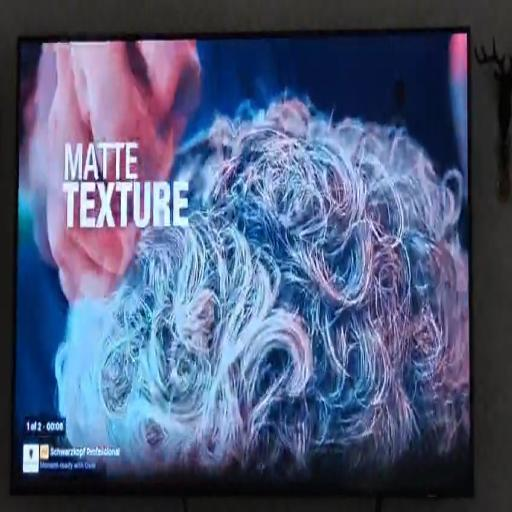ad label: (39, 444, 49, 462)
